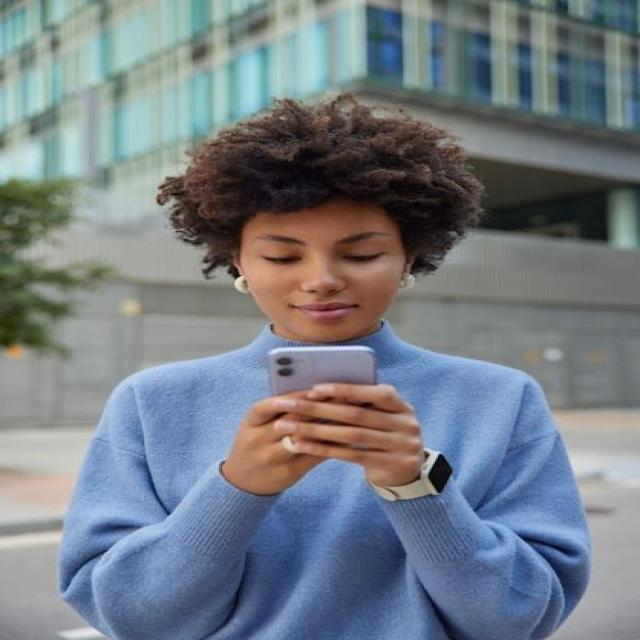mobile: (254, 338, 393, 395)
person: (113, 80, 623, 344)
